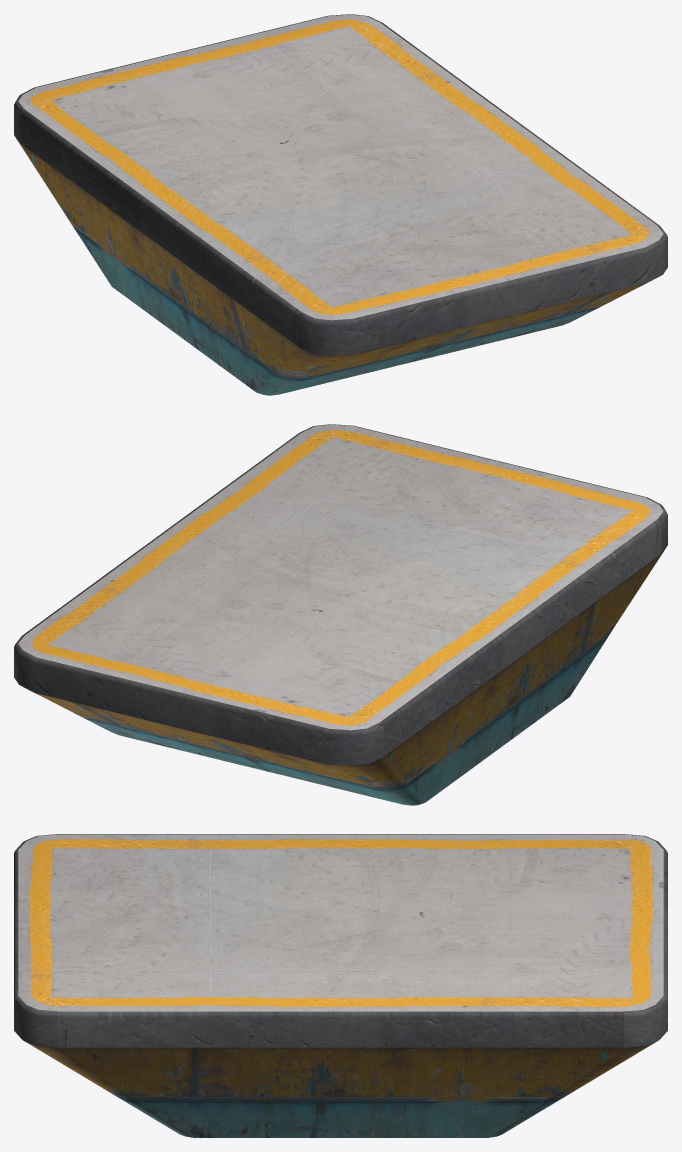
Rendered from Barge.FBX.
The picture shows the model from 3 angles, top to bottom: view 1: azimuth 30°, elevation 25°; view 2: azimuth 150°, elevation 25°; view 3: azimuth 270°, elevation 25°; orthographic projection. The views are drawn at different scales.
Parts seen in each view (by area): view 1: Box001; view 2: Box001; view 3: Box001.
Part boxes in pixels (left/top/right/bottom): Box001: left=14, top=14, right=667, bottom=395; Box001: left=14, top=424, right=667, bottom=805; Box001: left=14, top=834, right=667, bottom=1137.
Size of the model in its own units: 170 by 60 by 260.
